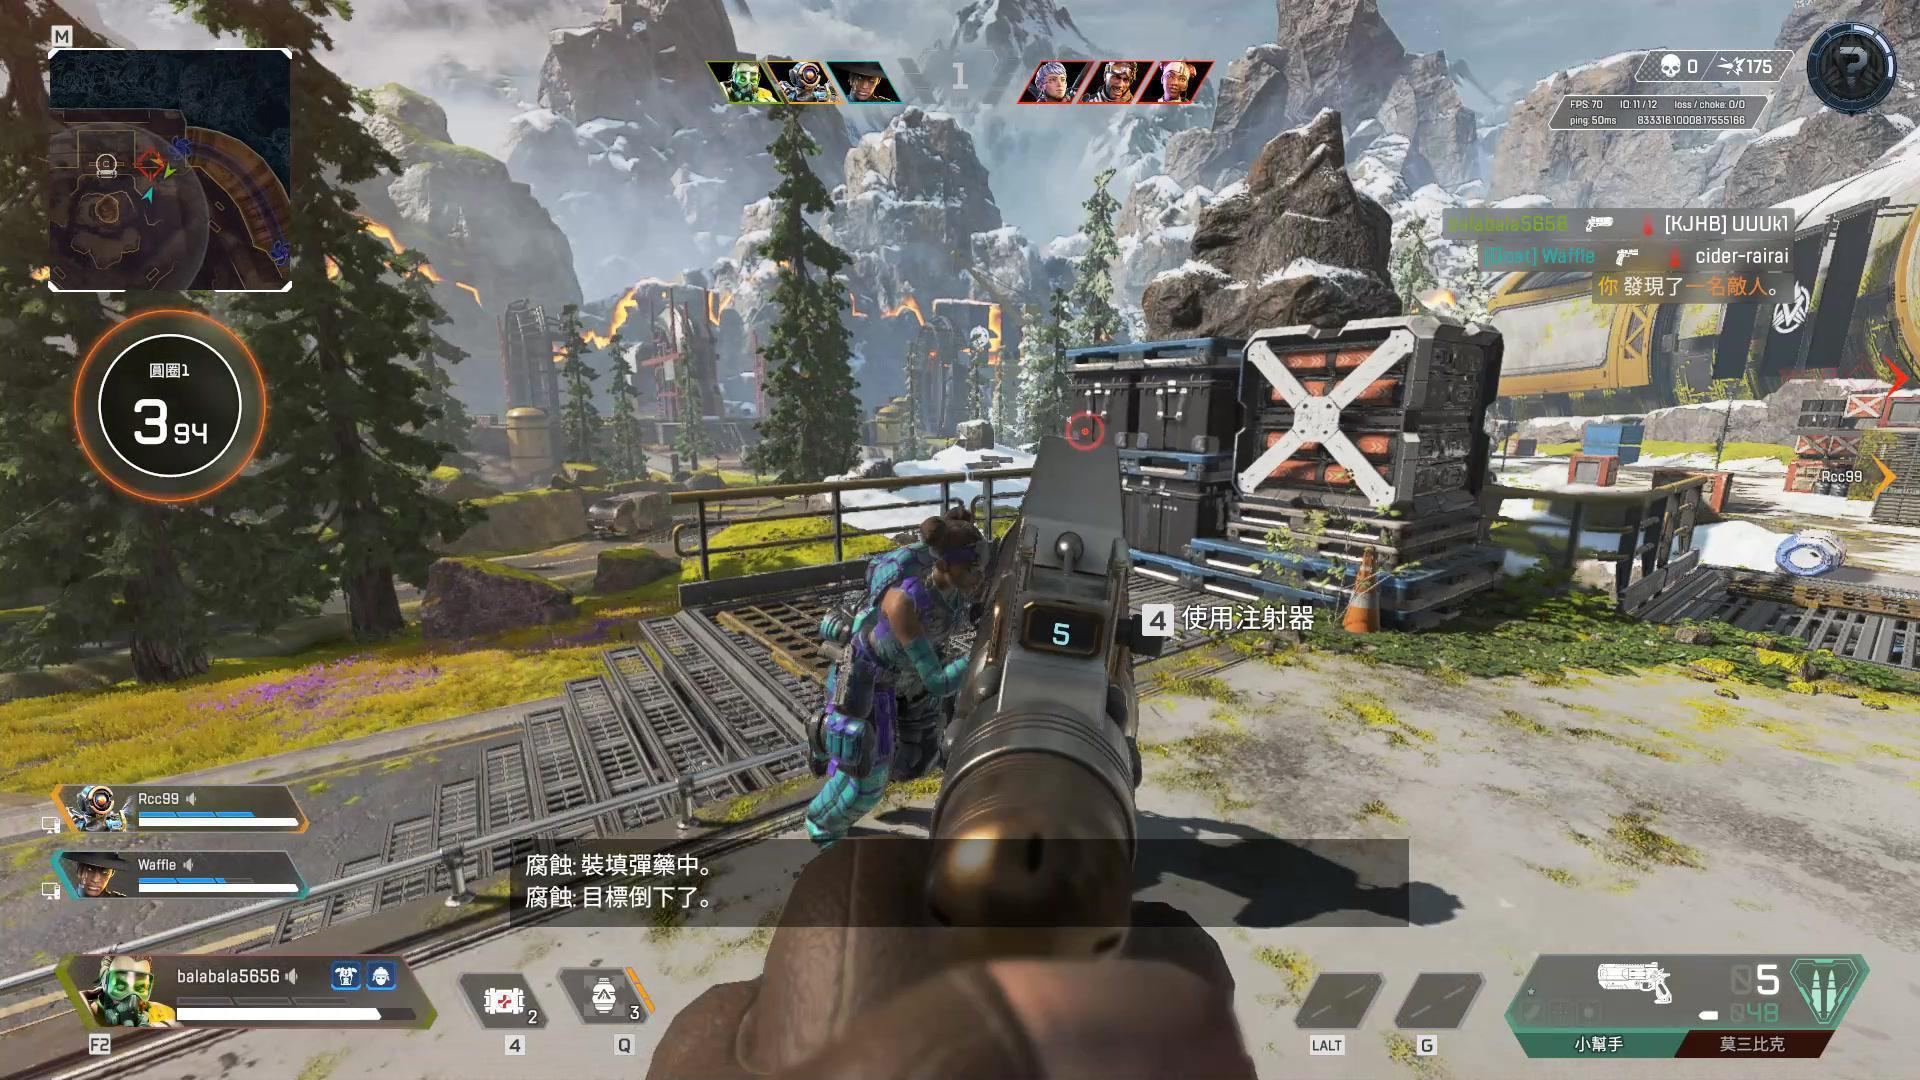avatar: (800, 502, 991, 842)
